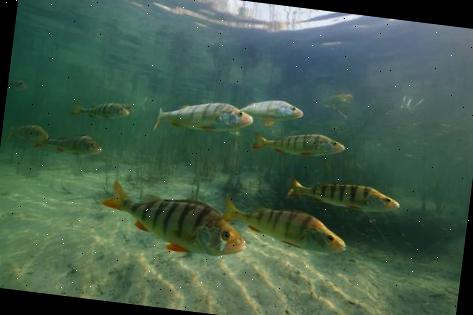fish: (94, 176, 252, 260), (219, 192, 352, 255), (151, 92, 256, 142), (285, 174, 403, 216), (250, 125, 347, 161), (237, 94, 306, 130), (41, 129, 102, 157), (70, 96, 135, 122), (5, 121, 50, 145), (8, 77, 28, 92)
